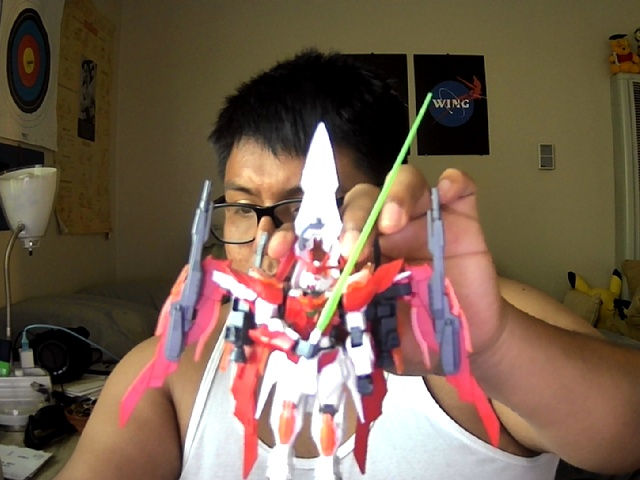Honoo: (119, 120, 502, 480)
